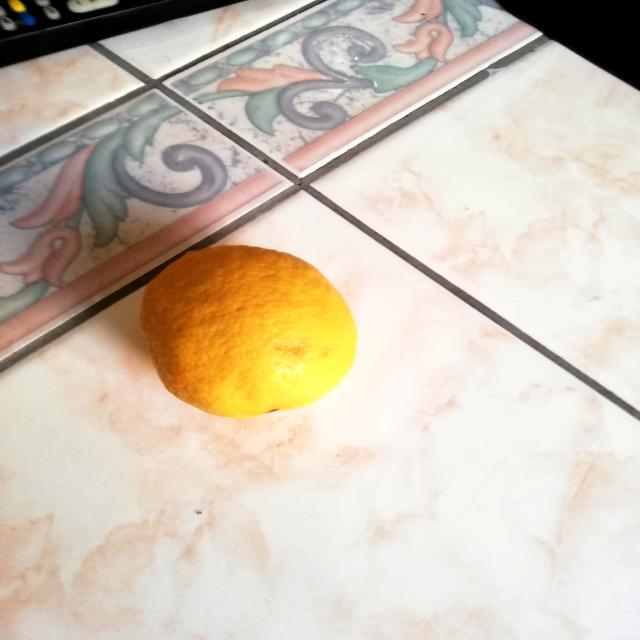lemon: (133, 228, 367, 422)
